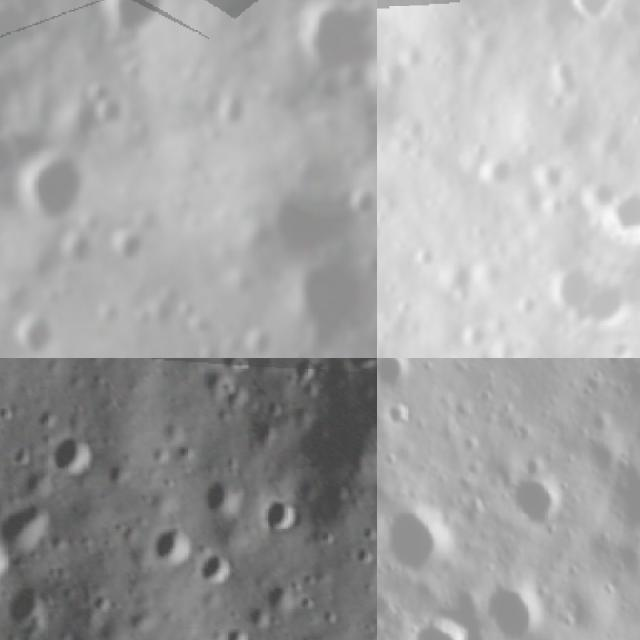crater: (242, 155, 358, 263), (292, 251, 376, 358), (291, 0, 377, 97), (9, 148, 100, 222), (377, 495, 454, 575), (534, 251, 603, 323), (497, 469, 569, 535), (80, 0, 165, 53), (474, 579, 543, 639), (562, 564, 617, 638), (593, 457, 640, 537), (425, 243, 483, 302), (1, 491, 52, 554), (575, 162, 627, 216), (4, 312, 61, 358), (48, 425, 97, 478), (397, 608, 468, 640), (560, 0, 628, 33), (108, 222, 149, 276), (194, 546, 243, 591), (152, 519, 195, 570), (6, 578, 48, 630), (454, 312, 498, 357), (204, 471, 242, 520), (262, 492, 300, 537), (208, 92, 246, 132), (89, 93, 128, 131), (232, 329, 276, 358), (377, 398, 414, 432), (377, 358, 411, 389), (86, 302, 122, 331), (349, 186, 377, 223), (520, 0, 587, 15), (620, 363, 640, 404), (519, 450, 540, 482), (188, 342, 225, 358), (347, 358, 377, 375), (225, 623, 251, 640), (368, 376, 377, 415)
